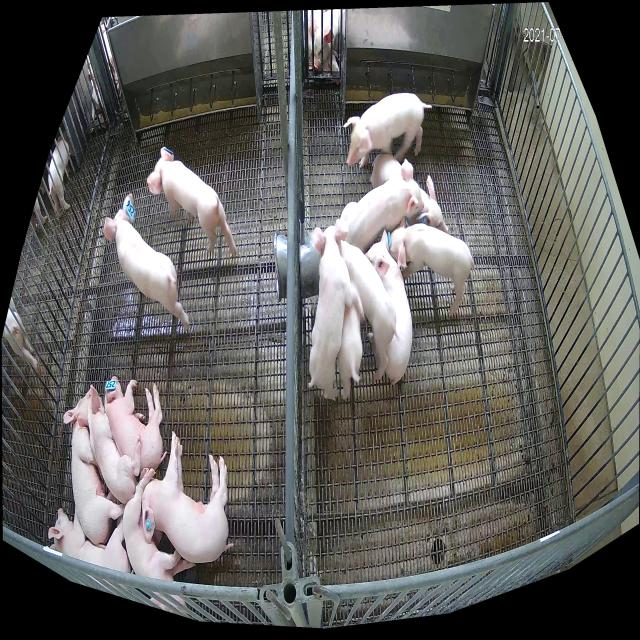pig: (142, 431, 234, 564), (104, 194, 189, 332), (123, 466, 196, 617), (309, 218, 366, 402), (146, 145, 238, 257), (63, 387, 125, 547), (389, 218, 474, 316), (338, 240, 396, 380), (340, 159, 424, 254), (76, 384, 140, 504), (365, 230, 412, 385), (343, 94, 431, 169), (370, 154, 448, 233), (48, 508, 131, 574), (105, 377, 164, 468), (338, 306, 363, 401)
